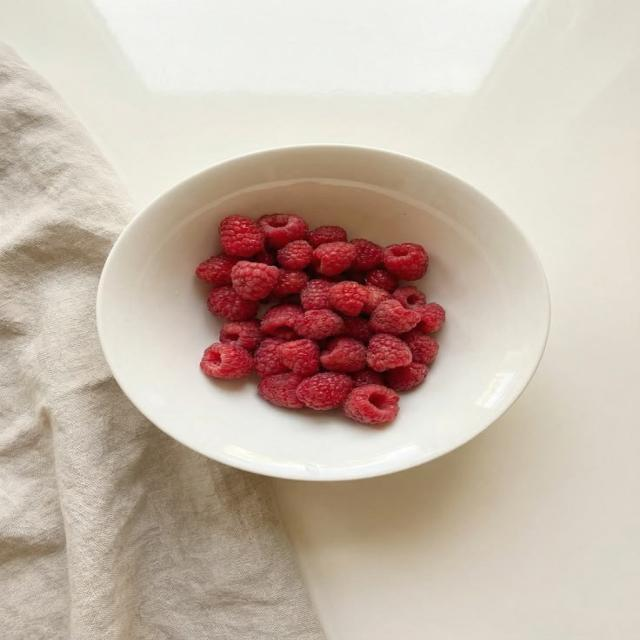raspberry: (344, 384, 399, 424), (297, 372, 353, 409), (200, 343, 253, 378), (232, 261, 279, 300), (220, 216, 264, 257), (369, 299, 420, 334), (207, 286, 259, 320), (258, 214, 307, 248), (367, 334, 412, 371), (259, 372, 304, 408), (384, 244, 428, 280), (320, 338, 366, 372), (278, 339, 319, 376), (294, 310, 343, 339), (314, 242, 355, 276), (261, 305, 302, 339), (329, 281, 367, 316), (196, 255, 239, 285), (254, 338, 287, 377), (220, 320, 261, 351), (402, 330, 439, 364), (386, 362, 428, 391), (278, 240, 313, 270), (351, 239, 383, 271), (273, 269, 307, 297), (417, 303, 445, 333), (307, 226, 346, 247), (362, 285, 390, 314), (365, 269, 398, 293), (342, 317, 371, 343), (393, 286, 426, 308), (352, 368, 384, 387), (340, 269, 365, 284), (251, 250, 276, 265)
